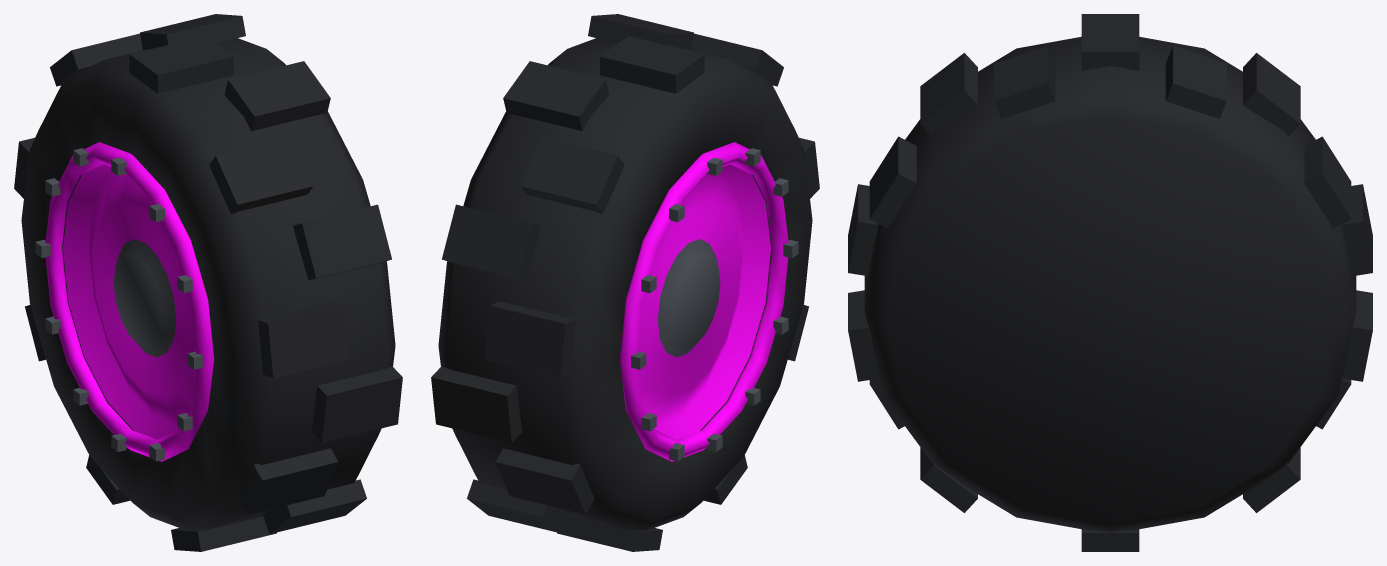
File: rim_offroad.glb
The picture shows the model from 3 angles, left to right: view 1: azimuth 30°, elevation 25°; view 2: azimuth 150°, elevation 25°; view 3: azimuth 270°, elevation 25°; orthographic projection.
Parts seen in each view (by area): view 1: rim_offroad__mesh; view 2: rim_offroad__mesh; view 3: rim_offroad__mesh.
Part boxes in pixels (x1,y1,x2,y2): rim_offroad__mesh: (14, 14, 402, 551); rim_offroad__mesh: (431, 14, 819, 551); rim_offroad__mesh: (848, 14, 1372, 551).
Size of the model in its own units: 0.38 by 1 by 1.
1 material, 1 textured.
